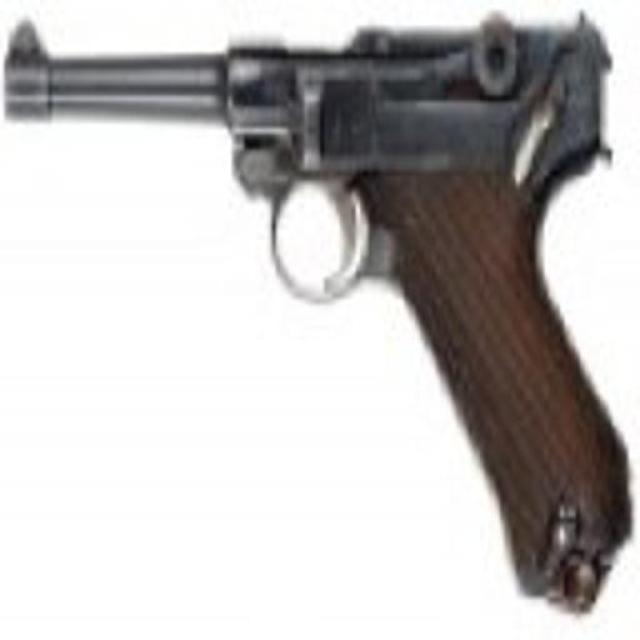pistol: (3, 10, 631, 607)
